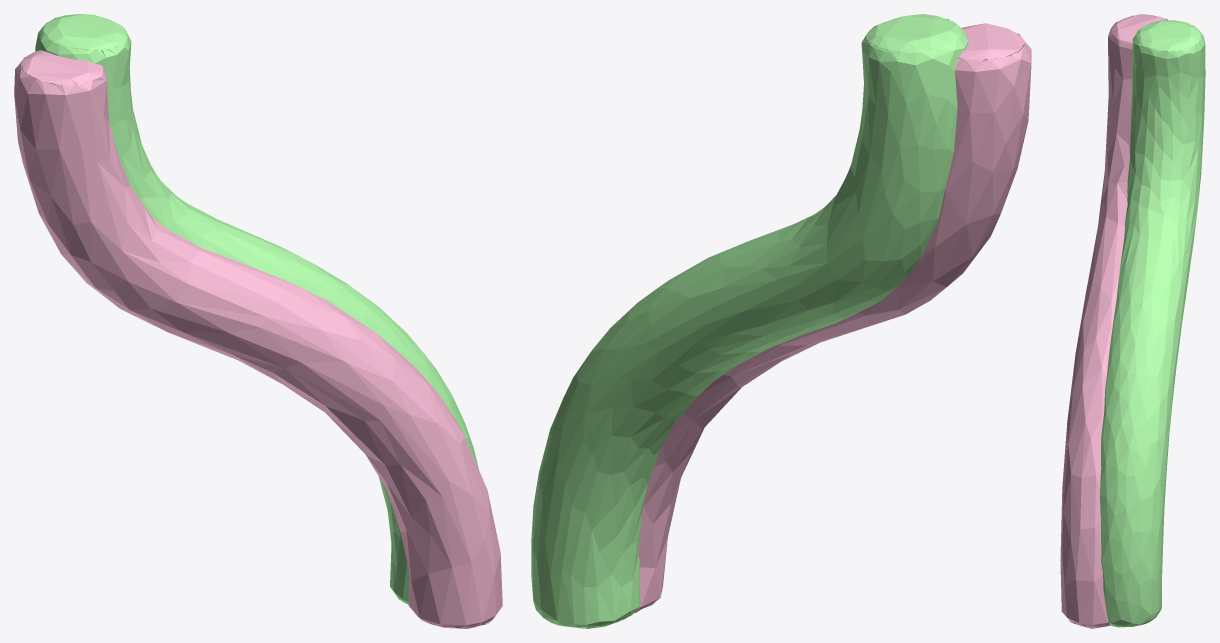
Rendered from GEO_Stock_06.glb.
The picture shows the model from 3 angles, left to right: view 1: azimuth 30°, elevation 25°; view 2: azimuth 150°, elevation 25°; view 3: azimuth 270°, elevation 25°; orthographic projection. The views are drawn at different scales.
Parts seen in each view (by area): view 1: GEO_Stock_06; view 2: GEO_Stock_06; view 3: GEO_Stock_06.
Part boxes in pixels (x1=…): GEO_Stock_06: x1=14, y1=14, x2=502, y2=628; GEO_Stock_06: x1=531, y1=14, x2=1031, y2=628; GEO_Stock_06: x1=1060, y1=14, x2=1205, y2=628.
Size of the model in its own units: 1.87 by 2.53 by 0.7032.
